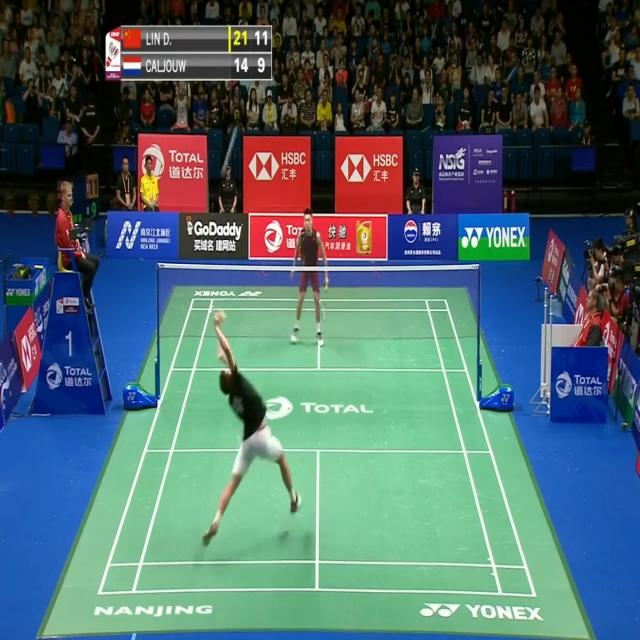Player1: (194, 300, 304, 550)
Player2: (288, 206, 330, 350)
